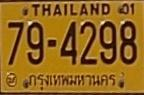2: (79, 20, 96, 64)
4: (60, 20, 76, 64)
7: (7, 21, 23, 64)
8: (119, 20, 136, 63)
9: (99, 20, 116, 64), (26, 21, 43, 64)
BKK: (27, 70, 119, 92)
